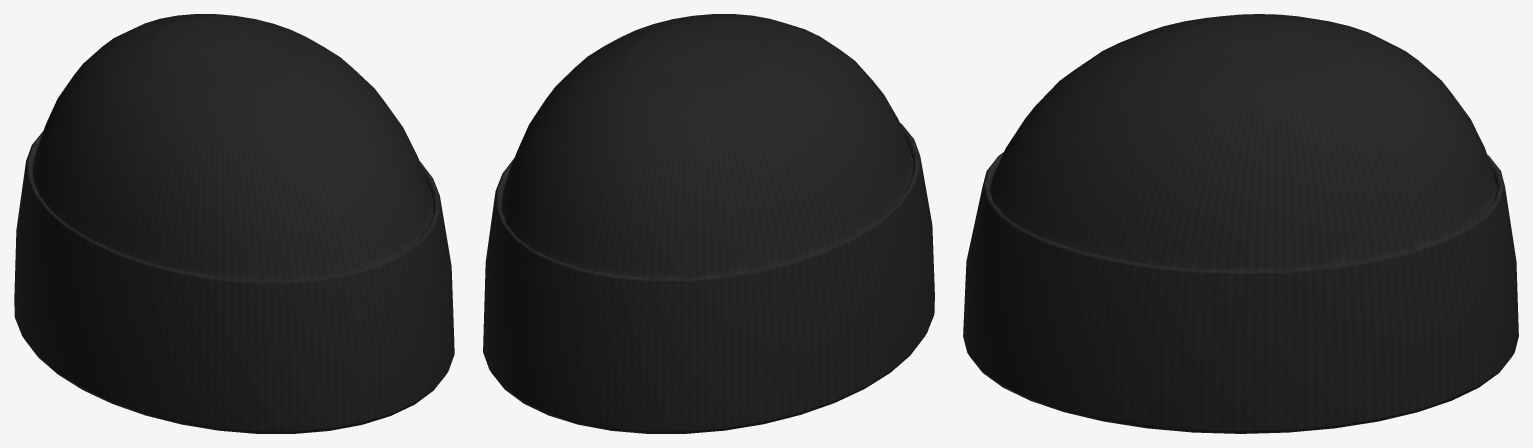
The model's file is beanie.glb.
3 renders of one model, left to right at view 1: azimuth 30°, elevation 25°; view 2: azimuth 150°, elevation 25°; view 3: azimuth 270°, elevation 25°, orthographic. The views are drawn at different scales.
Parts seen in each view (by area): view 1: beanie; view 2: beanie; view 3: beanie.
Part boxes in pixels (<box>): beanie: <box>14,14,454,433</box>; beanie: <box>483,14,934,433</box>; beanie: <box>963,14,1518,433</box>.
Size of the model in its own units: 0.1608 by 0.1201 by 0.2008.
1 material, 1 textured.
